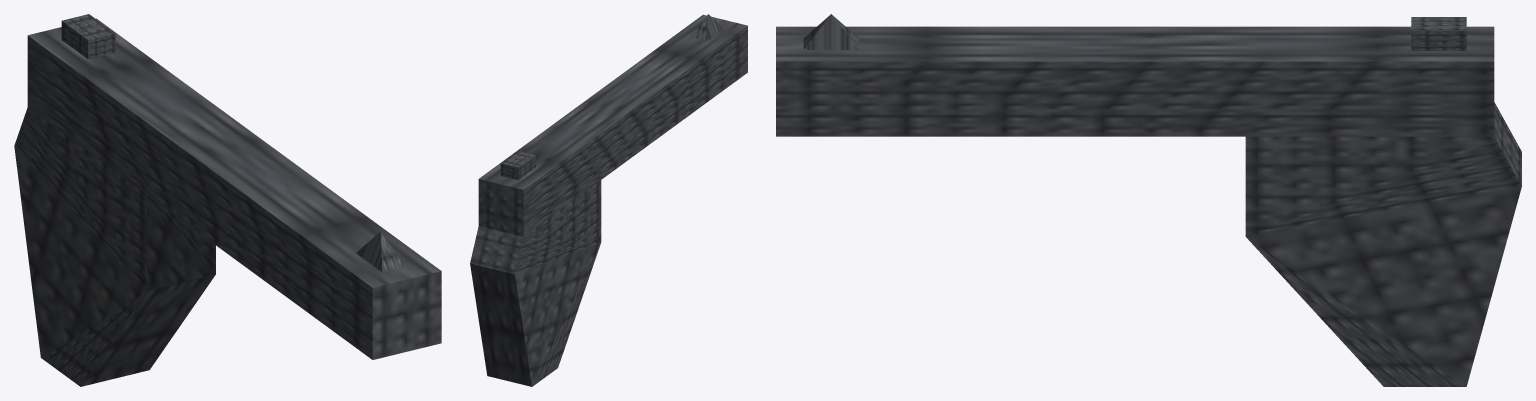
The model's file is automag_lvl1.obj.
3 renders of one model, left to right at view 1: azimuth 30°, elevation 25°; view 2: azimuth 150°, elevation 25°; view 3: azimuth 270°, elevation 25°, orthographic. The views are drawn at different scales.
Bounding box in the file's own units: 0.3 × 1.42 × 2.7.
Materials: 2 (2 with a texture image).
